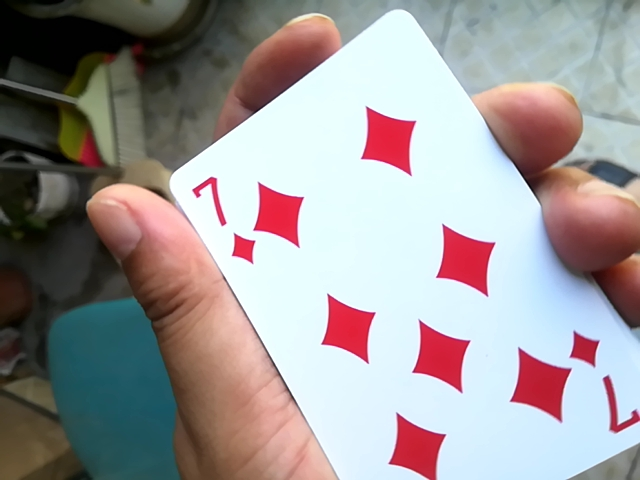fk 7: (172, 12, 622, 474)
